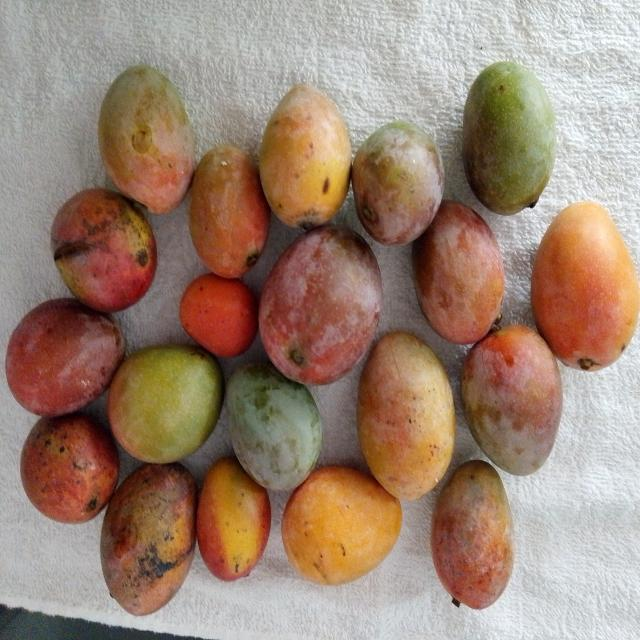mango: (259, 226, 381, 384), (531, 202, 639, 371), (357, 332, 455, 499), (461, 325, 562, 475), (100, 464, 196, 615), (98, 66, 195, 213), (463, 62, 556, 214), (282, 466, 401, 584), (6, 299, 125, 417), (108, 346, 223, 463), (259, 84, 351, 229), (51, 189, 157, 312), (413, 201, 504, 344), (431, 460, 514, 609), (227, 364, 322, 490), (352, 122, 443, 244), (20, 414, 119, 523), (189, 146, 270, 278), (197, 457, 270, 581)
